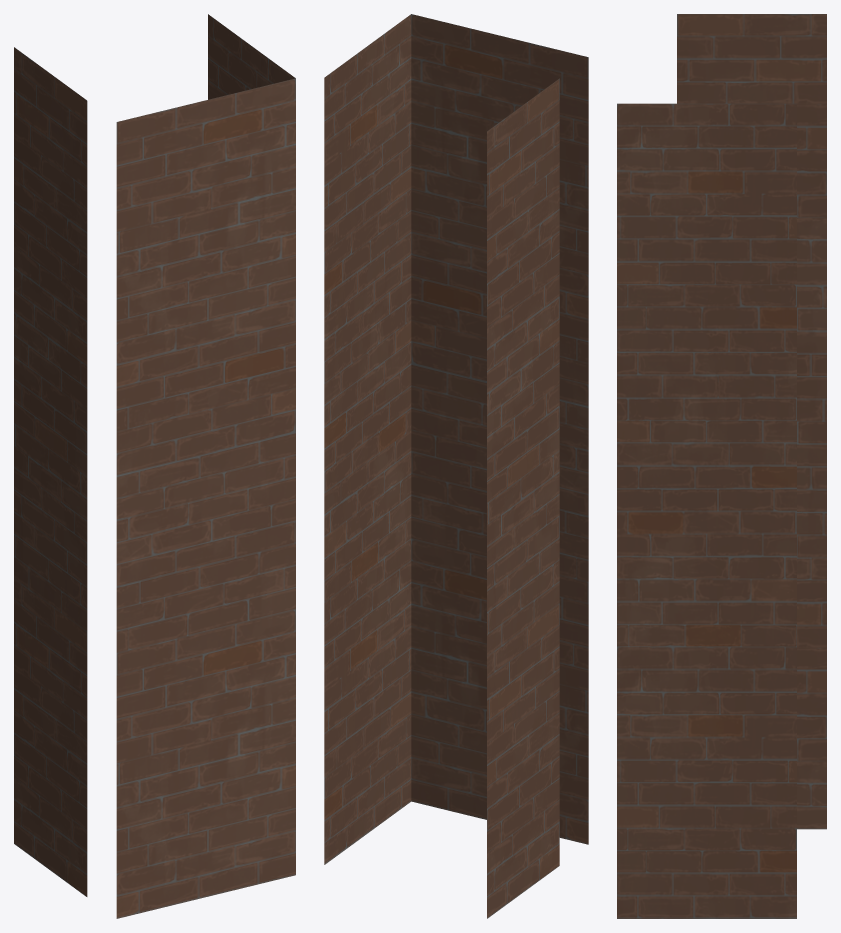
File: Brick_90Angle_L.gltf
The picture shows the model from 3 angles, left to right: view 1: azimuth 30°, elevation 25°; view 2: azimuth 150°, elevation 25°; view 3: azimuth 270°, elevation 25°; orthographic projection. The views are drawn at different scales.
Parts seen in each view (by area): view 1: Brick_90Angle_L; view 2: Brick_90Angle_L; view 3: Brick_90Angle_L.
Boxes of the visible parts, box(x1,y1,x2,y2) form: Brick_90Angle_L: box(14, 14, 295, 918); Brick_90Angle_L: box(324, 14, 588, 918); Brick_90Angle_L: box(617, 14, 826, 918).
Size of the model in its own units: 0.7062 by 3 by 0.7.
Materials: 2 (2 with a texture image).
